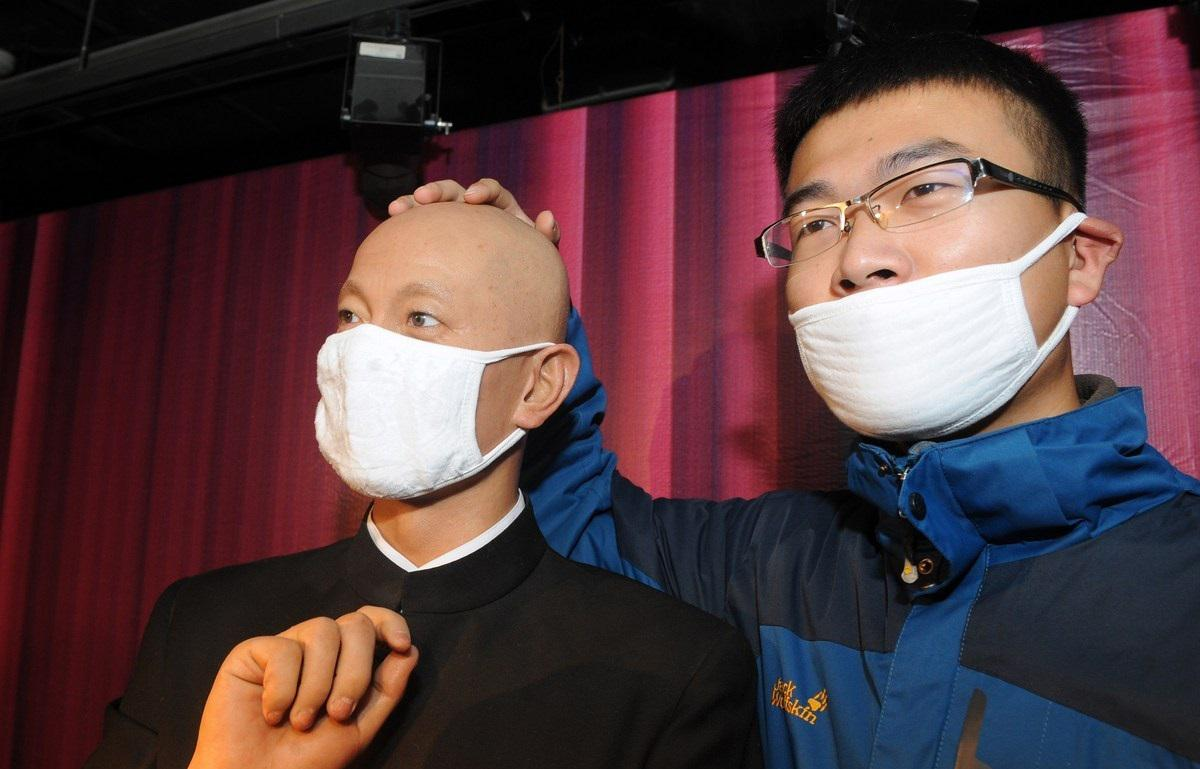OK: (309, 263, 543, 497)
WRONG: (757, 141, 1048, 432)
